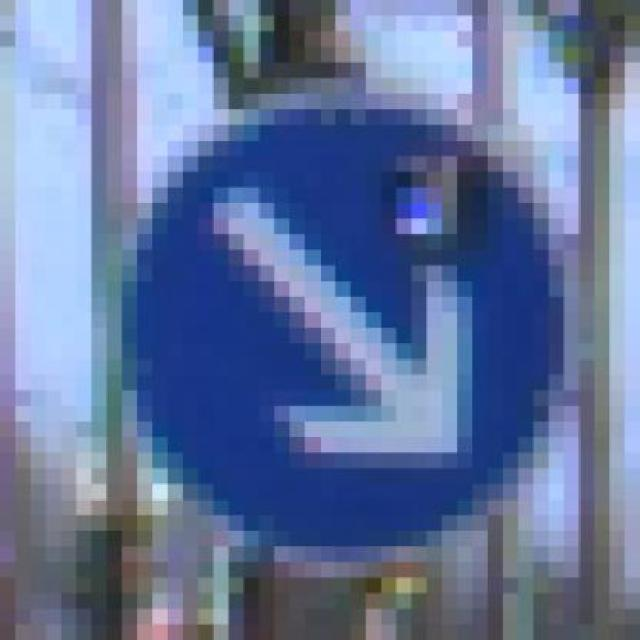Keep-Right: (76, 62, 579, 578)
